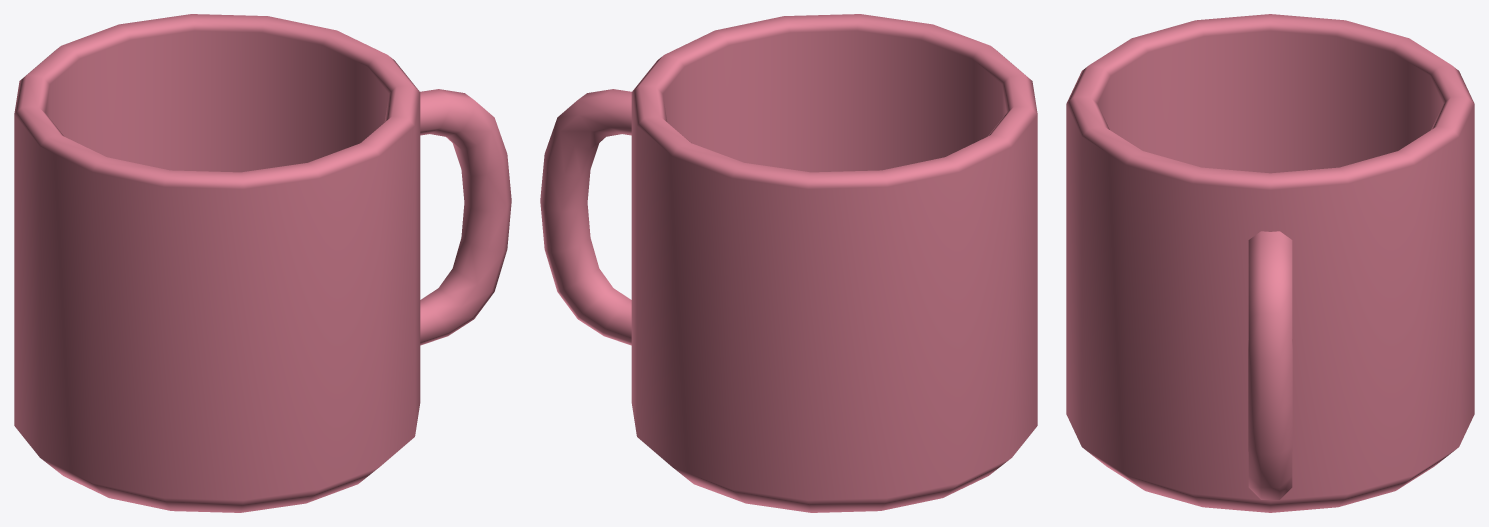
Rendered from Cup_6.glb.
3 renders of one model, left to right at view 1: azimuth 30°, elevation 25°; view 2: azimuth 150°, elevation 25°; view 3: azimuth 270°, elevation 25°, orthographic.
Visible parts, largest first — view 1: Cup_6; view 2: Cup_6; view 3: Cup_6.
Part boxes in pixels (x1,y1,x2,y2): Cup_6: (14, 14, 511, 512); Cup_6: (540, 14, 1037, 512); Cup_6: (1066, 14, 1474, 512).
Bounding box in the file's own units: 0.2085 × 0.1459 × 0.1583.
Materials: 1 (1 with a texture image).
